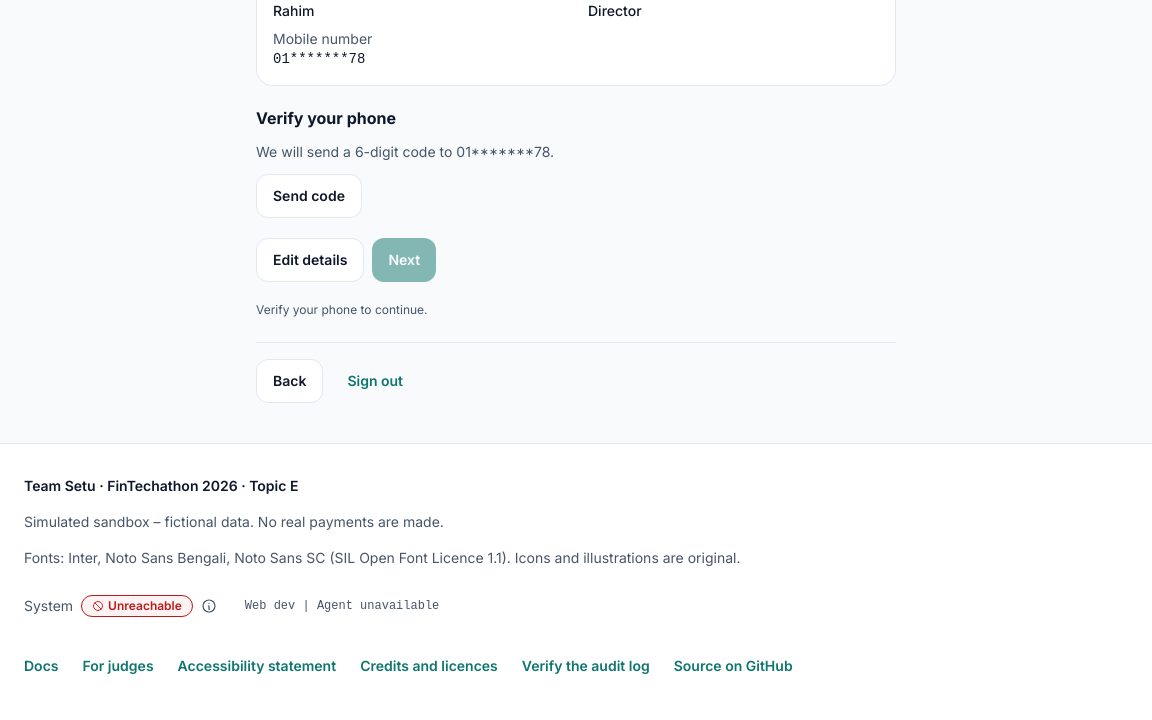
OnboardingWizard › goes back a step with the Back button
(page scrolled)
Click the button "Back". click: (290, 381)
box: [256,359,323,403]
(page scrolled)
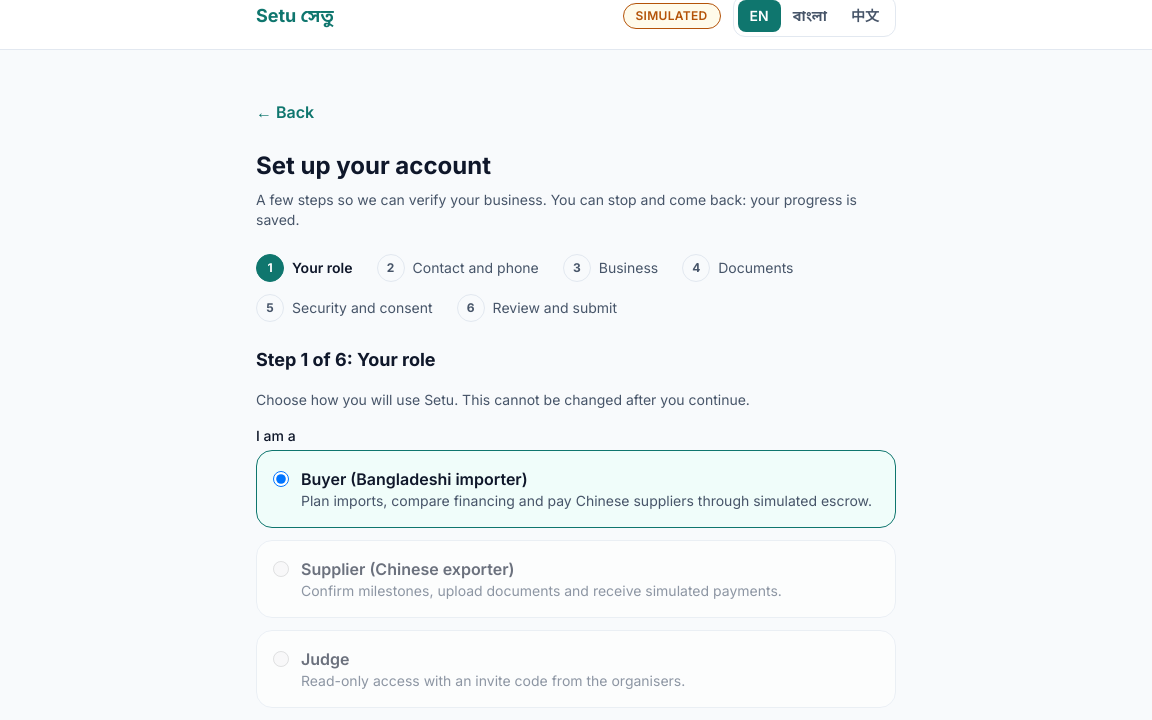
Expected: the heading "Step 1 of 6: Your role" is shown, [256,349,436,370]
